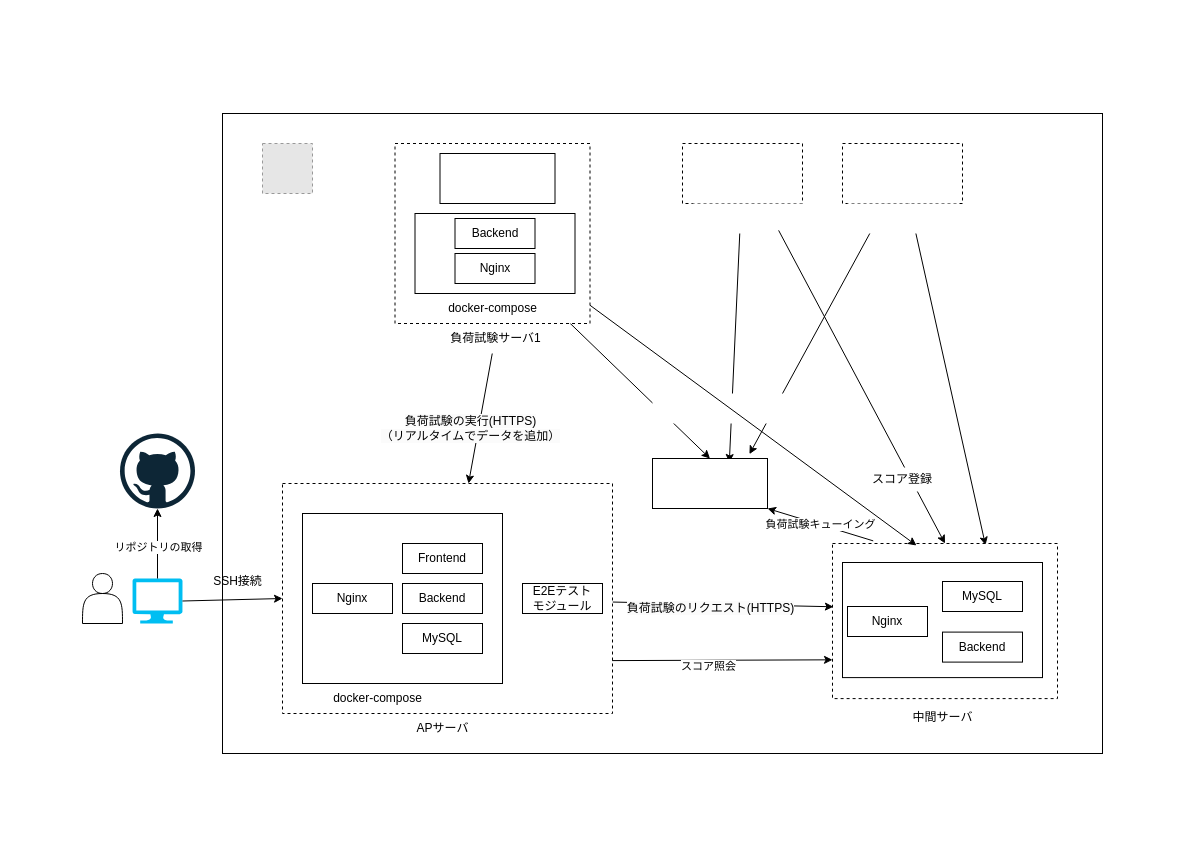
Some shapes in this 1203 by 861 pixel diagram are drawn without their labels. Grey dashed boxes stand in for pictures. Each missing label, with the box of its shape:
queueingサービス: (652, 458, 768, 508)
リクエストポーリング: (652, 393, 792, 423)
負荷試験サーバ2: (692, 203, 802, 233)
負荷試験サーバ3: (847, 203, 957, 233)
負荷試験モジュール （K6）: (439, 152, 555, 204)
